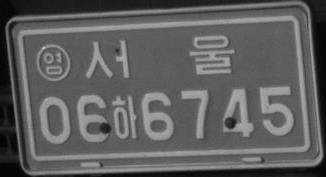0: (38, 95, 71, 145)
4: (222, 88, 254, 138)
5: (259, 85, 294, 136)
6: (140, 91, 174, 141), (76, 93, 109, 142)
7: (181, 89, 210, 139)
서울_D: (85, 34, 235, 80)
영: (35, 43, 71, 82)
하: (111, 95, 137, 139)
